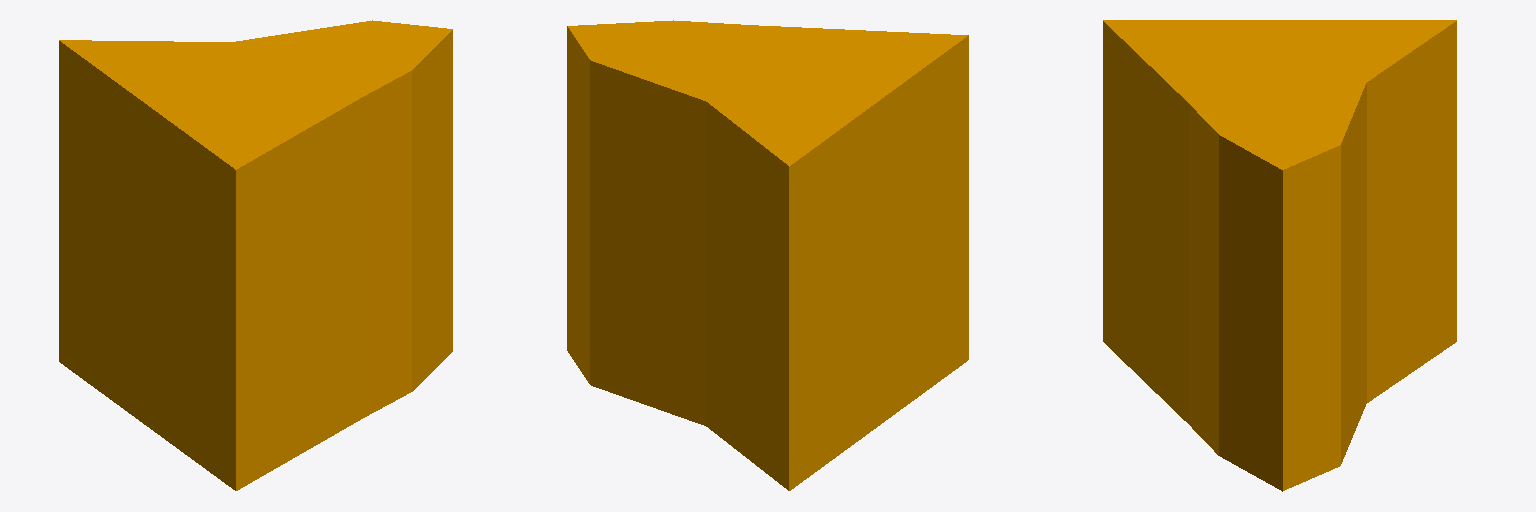
URDF robot description (object):
<?xml version="1.0"?>
<robot name="object">
  <link name="object">
    <visual>
      <origin xyz="0 0 0"/>
      <geometry>
        <mesh filename="meshes/polygon/poly_9_s.obj" scale=".03 .03 .03"/>
      </geometry>
    </visual>
    <collision>
  <origin xyz="0 0 0"/>
  <geometry>
    <mesh filename="meshes/polygon/poly_9_s_0decompose.obj" scale=".03 .03 .03"/>
<!--          <mesh filename="meshes/custom/obj0_ball.obj" scale=".05 .05 .05"/>-->
  </geometry>
</collision>

<!--    <collision>-->
<!--      <origin xyz="0 0 0"/>-->
<!--      <geometry>-->
<!--        <mesh filename="meshes/polygon/poly_9_s.obj" scale=".03 .03 .03"/>-->
<!--&lt;!&ndash;          <mesh filename="meshes/custom/obj0_ball.obj" scale=".05 .05 .05"/>&ndash;&gt;-->
<!--      </geometry>-->
<!--    </collision>-->
    <inertial>
      <density value="1000.0"/>
    </inertial>
  </link>
</robot>

--- Render facts (derived) ---
The picture shows the robot from 3 angles, left to right: view 1: azimuth 30°, elevation 25°; view 2: azimuth 150°, elevation 25°; view 3: azimuth 270°, elevation 25°; orthographic projection.
Model object with 1 links and 0 joints (none), rooted at object, posed all joints at 0.
Links seen in each view (by area): view 1: object; view 2: object; view 3: object.
Boxes of the visible links, x1,y1,x2,y2 form: object: (59, 20, 452, 490); object: (567, 20, 968, 490); object: (1103, 20, 1456, 491).
Bounding box of the posed robot: 0.06 × 0.06 × 0.06 m (x, y, z).
1 mesh visuals loaded from 1 distinct referenced files (1 OBJ).
